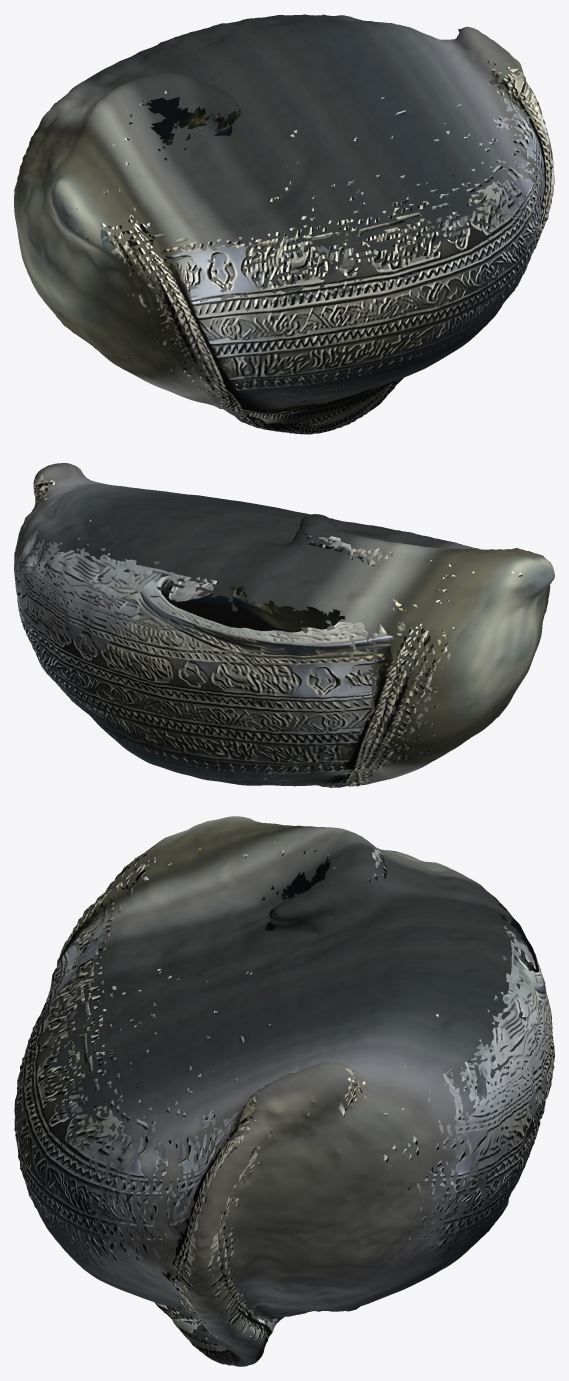
The model's file is kfl-2167.glb.
3 renders of one model, top to bottom at view 1: azimuth 30°, elevation 25°; view 2: azimuth 150°, elevation 25°; view 3: azimuth 270°, elevation 25°, orthographic. The views are drawn at different scales.
Parts seen in each view (by area): view 1: kfl-2167; view 2: kfl-2167; view 3: kfl-2167.
Boxes of the visible parts, box(x1,y1,x2,y2) form: kfl-2167: box(14, 14, 554, 434); kfl-2167: box(14, 463, 554, 787); kfl-2167: box(14, 816, 554, 1366).
Size of the model in its own units: 0.9918 by 0.6365 by 0.7615.
Materials: 4 (4 with a texture image).
